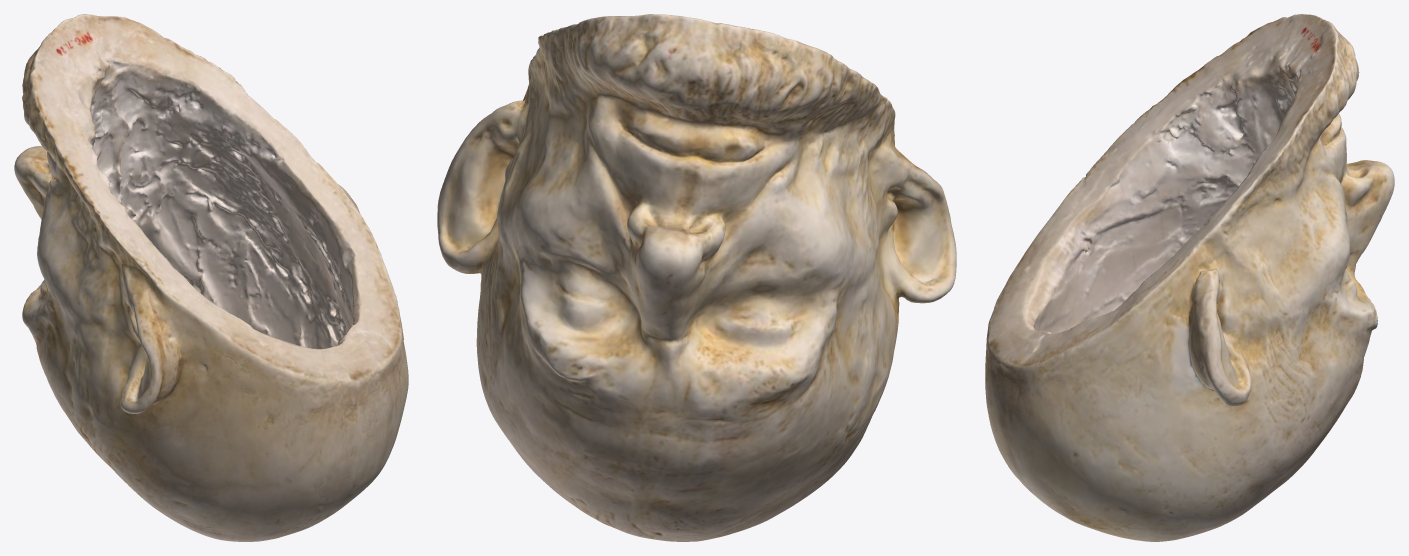
File: masque-lincoln.glb
3 views of the same model, side by side, from view 1: azimuth 30°, elevation 25°; view 2: azimuth 150°, elevation 25°; view 3: azimuth 270°, elevation 25° (orthographic). The views are drawn at different scales.
Size of the model in its own units: 197 by 277 by 222.
1 material, 1 textured.
